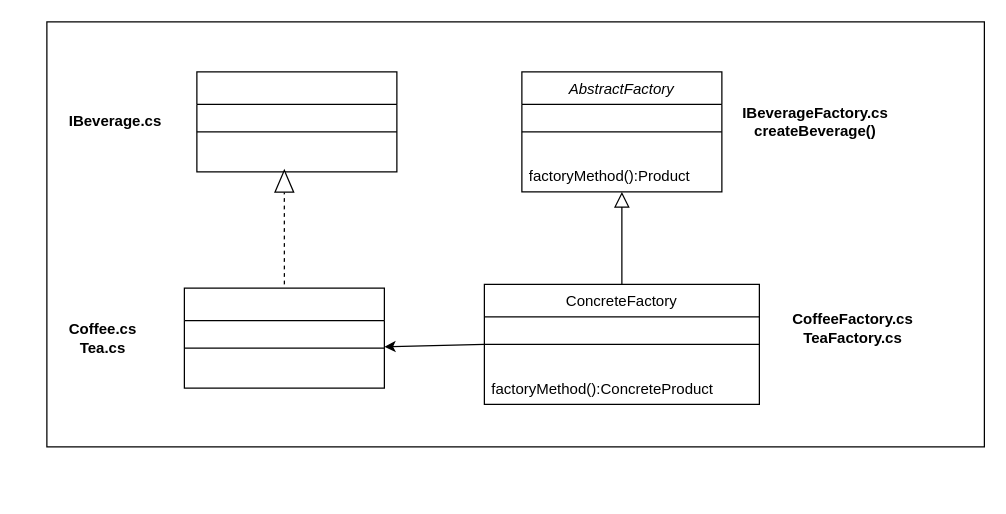
The diagram is 1006 pixels wide and 514 high, and some of its shapes have lost their labels. Each missing label, with the centre of its shape:
"ConcreteProduct" belongs at [283,337].
"ProductInterface" belongs at [296,121].
